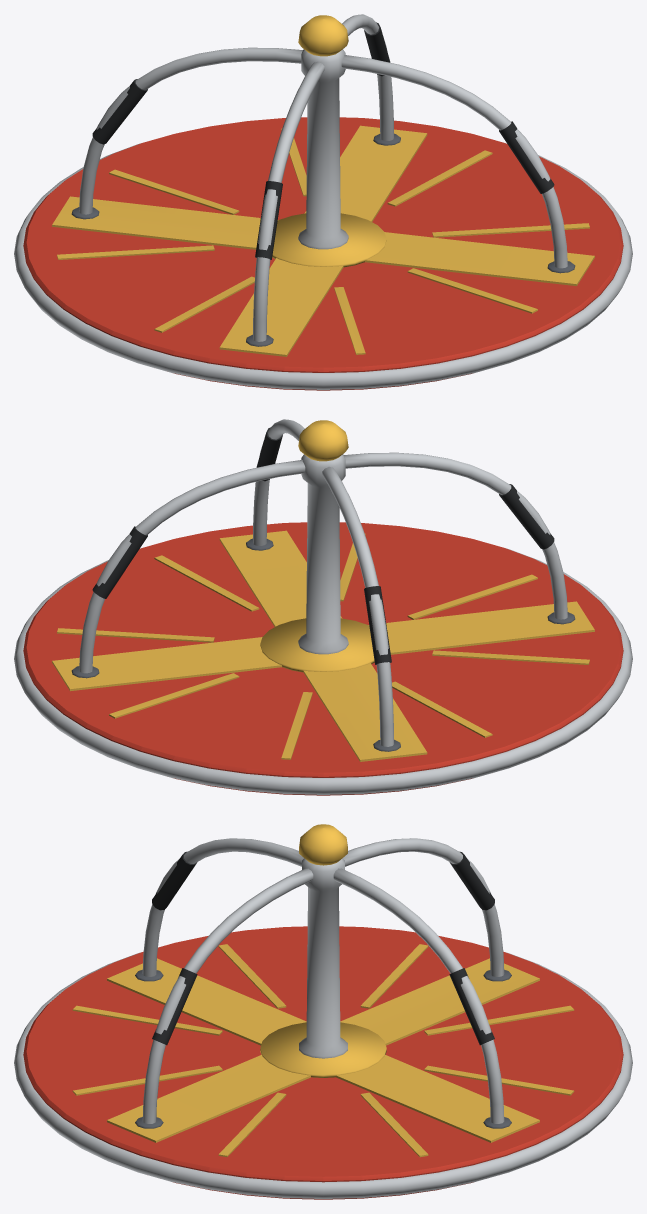
The model's file is merryGoRound.glb.
The picture shows the model from 3 angles, top to bottom: view 1: azimuth 30°, elevation 25°; view 2: azimuth 150°, elevation 25°; view 3: azimuth 270°, elevation 25°; orthographic projection.
Visible parts, largest first — view 1: platform; view 2: platform; view 3: platform.
Part boxes in pixels (left/top/right/bottom): platform: left=14, top=14, right=632, bottom=390; platform: left=14, top=419, right=632, bottom=795; platform: left=14, top=824, right=632, bottom=1199.
Bounding box in the file's own units: 1.96 × 1.04 × 1.96.
